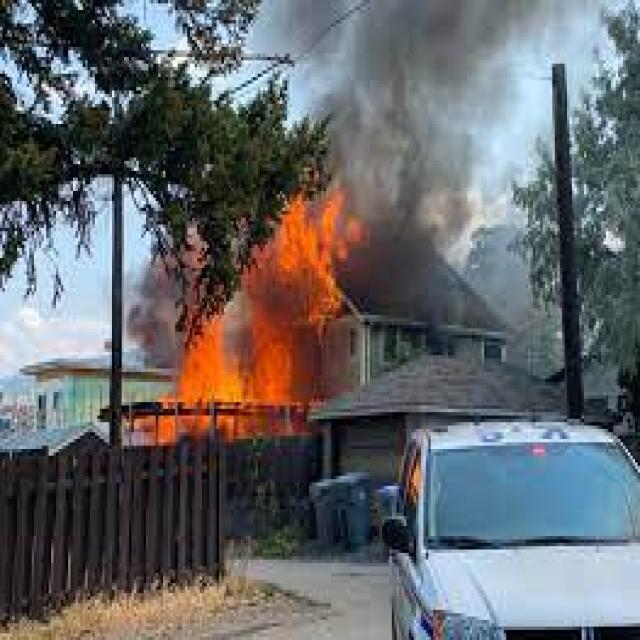Fire: (282, 200, 360, 322), (182, 338, 282, 414)
Smoke: (293, 2, 534, 272)
